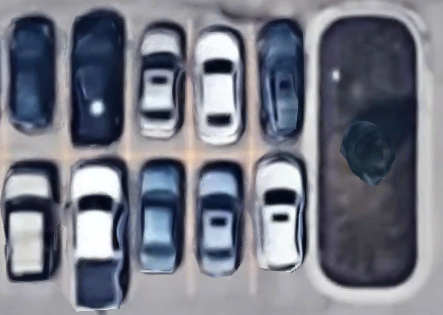Occupied: (65, 158, 132, 295), (3, 17, 66, 158), (190, 155, 253, 294), (66, 18, 128, 157), (128, 18, 190, 156), (189, 18, 251, 154), (251, 154, 311, 294), (3, 157, 64, 293), (130, 156, 189, 295), (251, 19, 311, 154)
